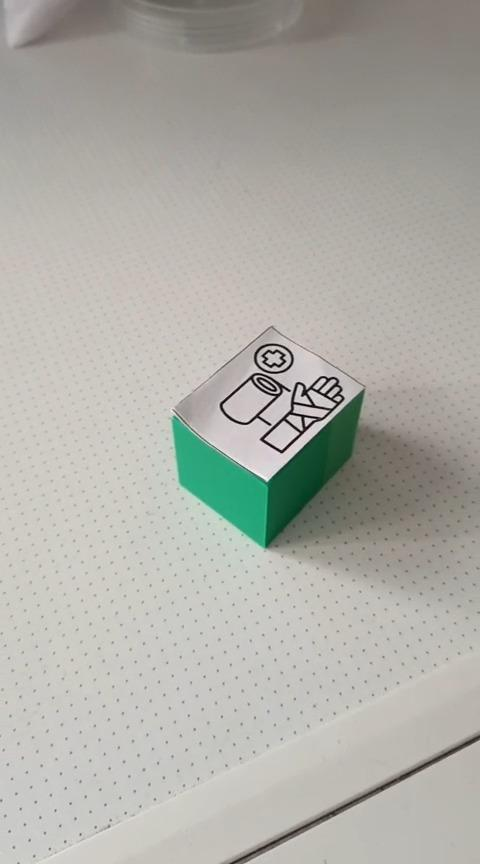Bandages: (173, 323, 366, 549)
